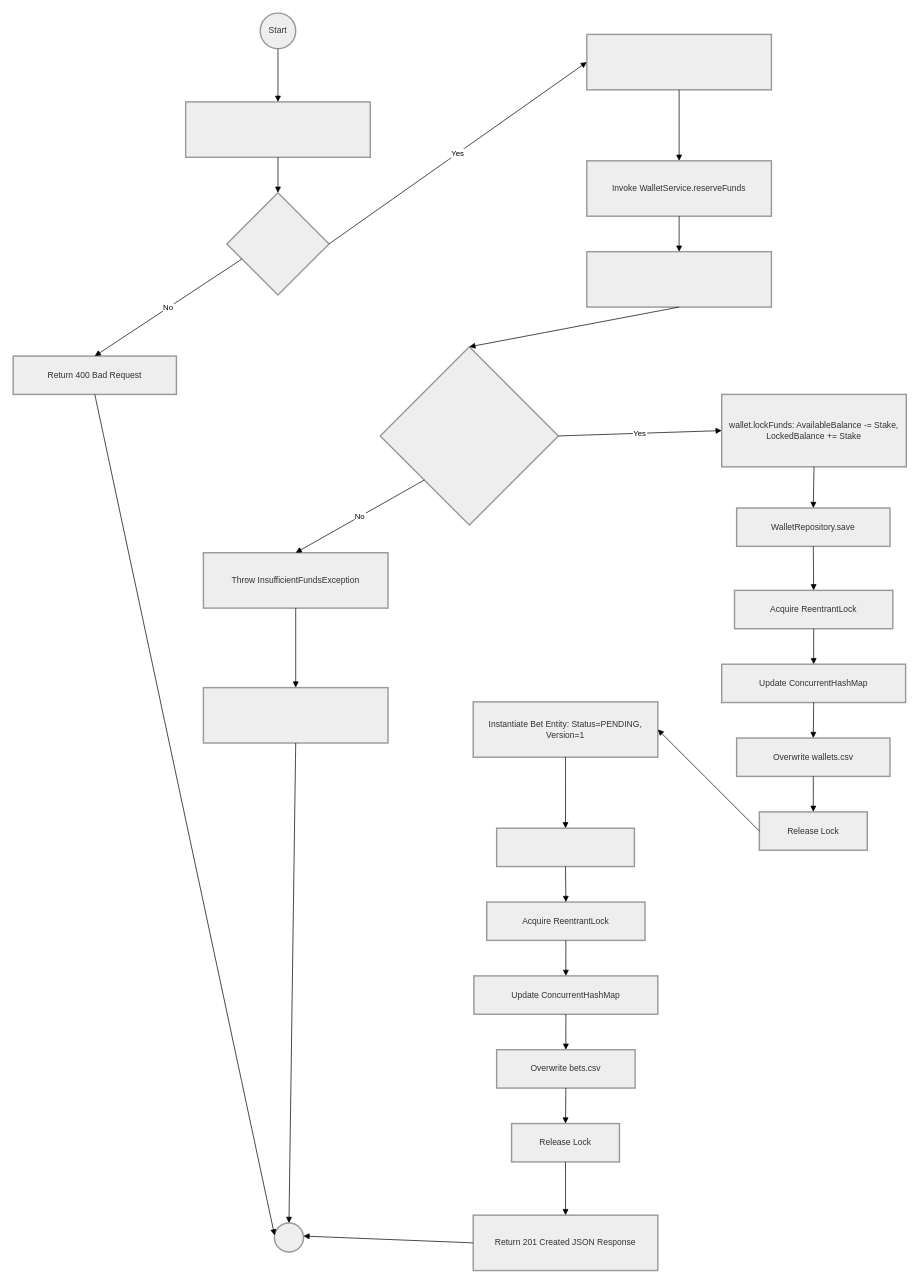
Some shapes in this 919 by 1283 pixel diagram are drawn without their labels. The centre of each missing label's shape, as x and y in pixels:
Available Balance >= Stake?: the point at 469,435
BetRepository.save: the point at 565,847
End: the point at 288,1237
Fetch User Wallet from Memory Cache: the point at 679,279
Incoming POST Request via Postman: the point at 278,129
Invoke BetService.createOffer: the point at 679,61
Is DTO Valid?: the point at 277,243
Return 400 Bad Request: Insufficient Funds: the point at 295,715
